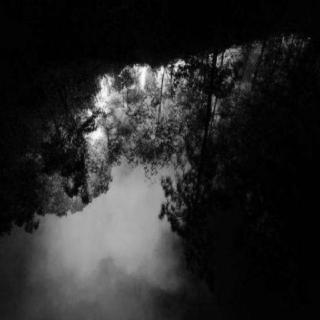Fire: (76, 57, 184, 151)
Smoke: (14, 152, 182, 300)
